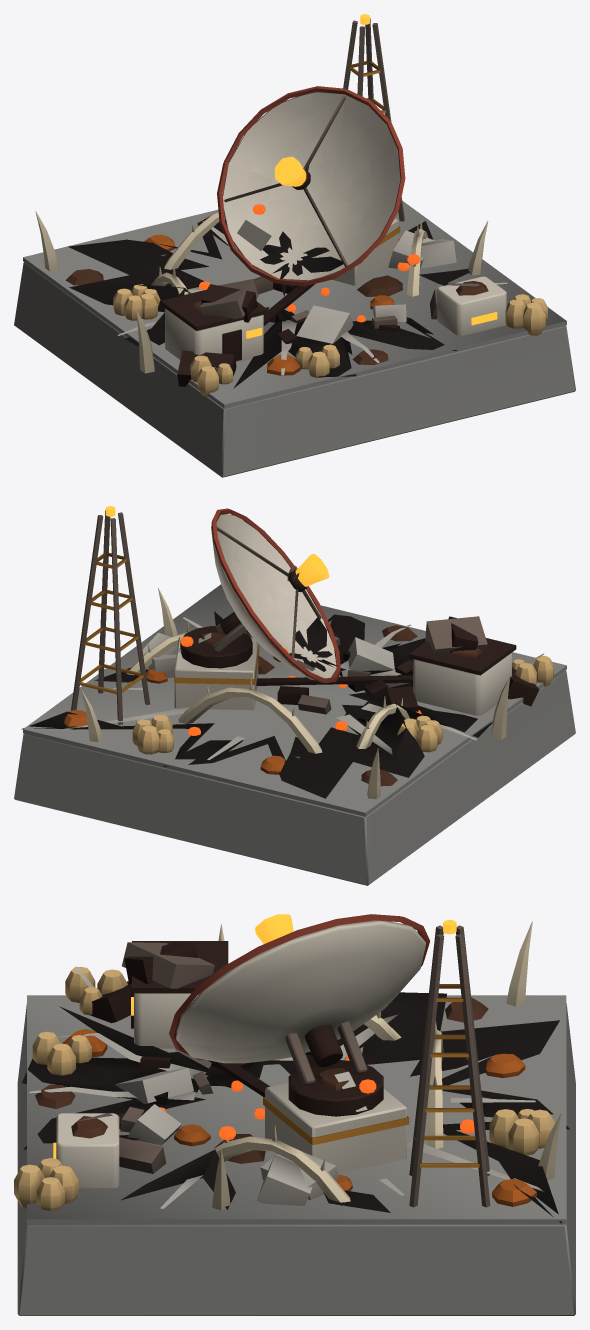
File: relay-station-amnion.glb
3 renders of one model, top to bottom at view 1: azimuth 30°, elevation 25°; view 2: azimuth 150°, elevation 25°; view 3: azimuth 270°, elevation 25°, orthographic. The views are drawn at different scales.
Visible parts, largest first — view 1: site_relay_station_amnion_body, site_relay_station_amnion_ruin, site_relay_station_amnion_core; view 2: site_relay_station_amnion_body, site_relay_station_amnion_ruin, site_relay_station_amnion_core; view 3: site_relay_station_amnion_body, site_relay_station_amnion_ruin, site_relay_station_amnion_core.
Part boxes in pixels (x1,y1,x2,y2): site_relay_station_amnion_body: (14,14,575,477); site_relay_station_amnion_ruin: (68,165,507,388); site_relay_station_amnion_core: (274,156,310,189); site_relay_station_amnion_body: (14,506,575,885); site_relay_station_amnion_ruin: (21,565,544,798); site_relay_station_amnion_core: (288,554,329,592); site_relay_station_amnion_body: (14,914,575,1315); site_relay_station_amnion_ruin: (22,941,569,1223); site_relay_station_amnion_core: (255,914,293,943).
Size of the model in its own units: 5.8 by 4.1 by 5.78.
